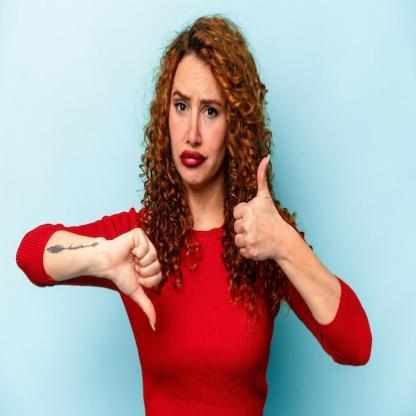thumb_down: (109, 224, 163, 334)
thumb_up: (231, 149, 278, 263)
